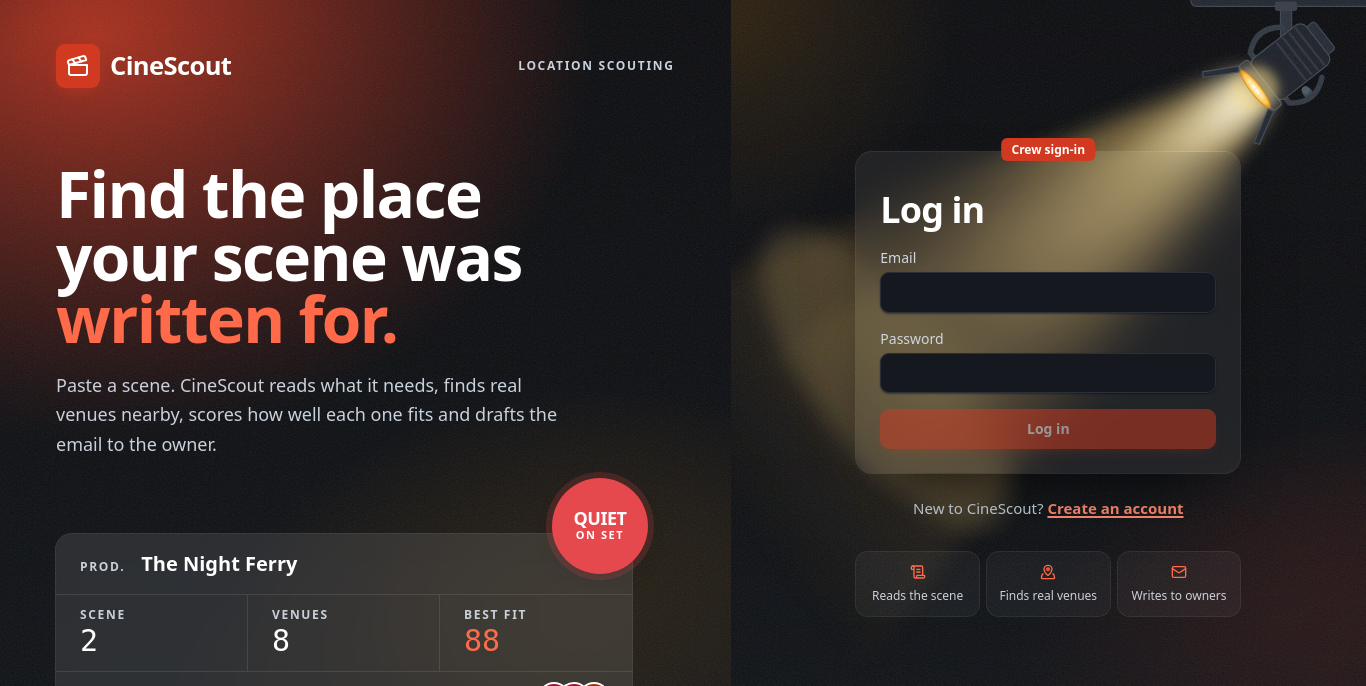
Test case: the call sheet › is shared with the crew by a link, which can be copied and stopped
The width and height of the screenshot is (1366, 686).
In the field labelled "Email": (1048, 293) top-left (880, 272), bottom-right (1216, 313), type "ada@example.com"
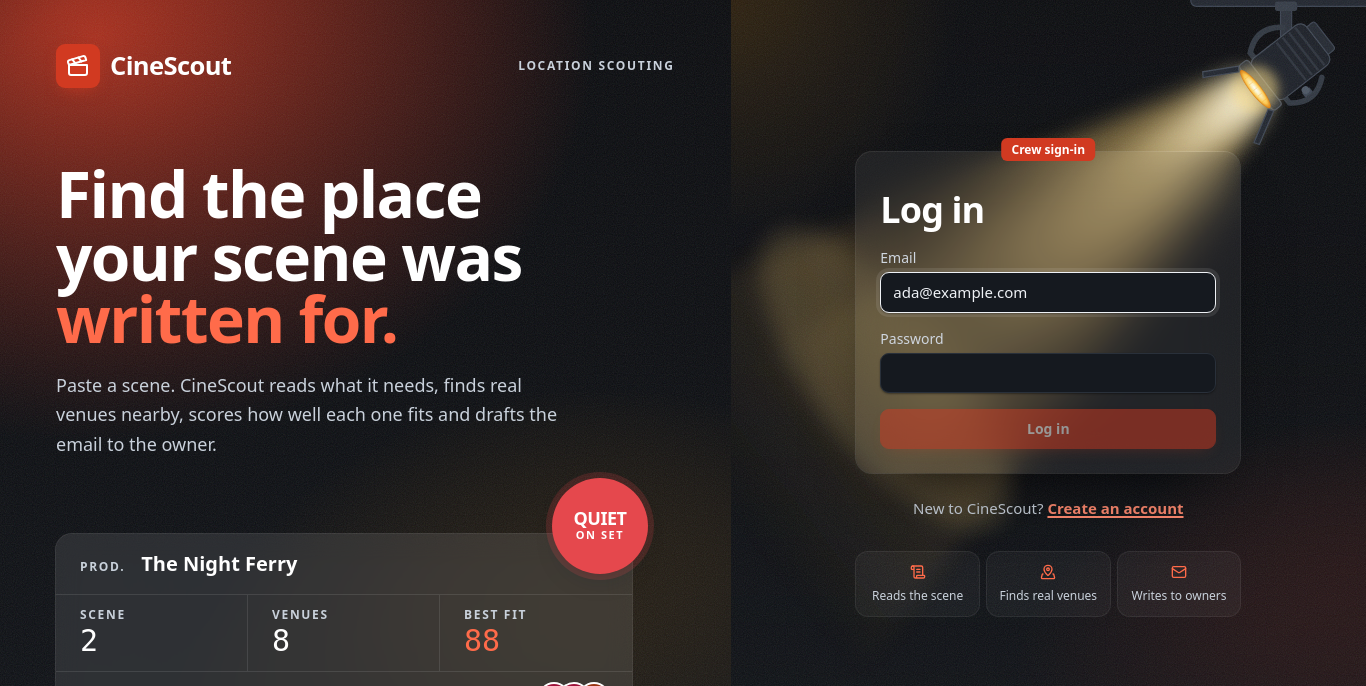
In the password field labelled "Password": (1048, 373) top-left (880, 353), bottom-right (1216, 393), type "a-long-password"
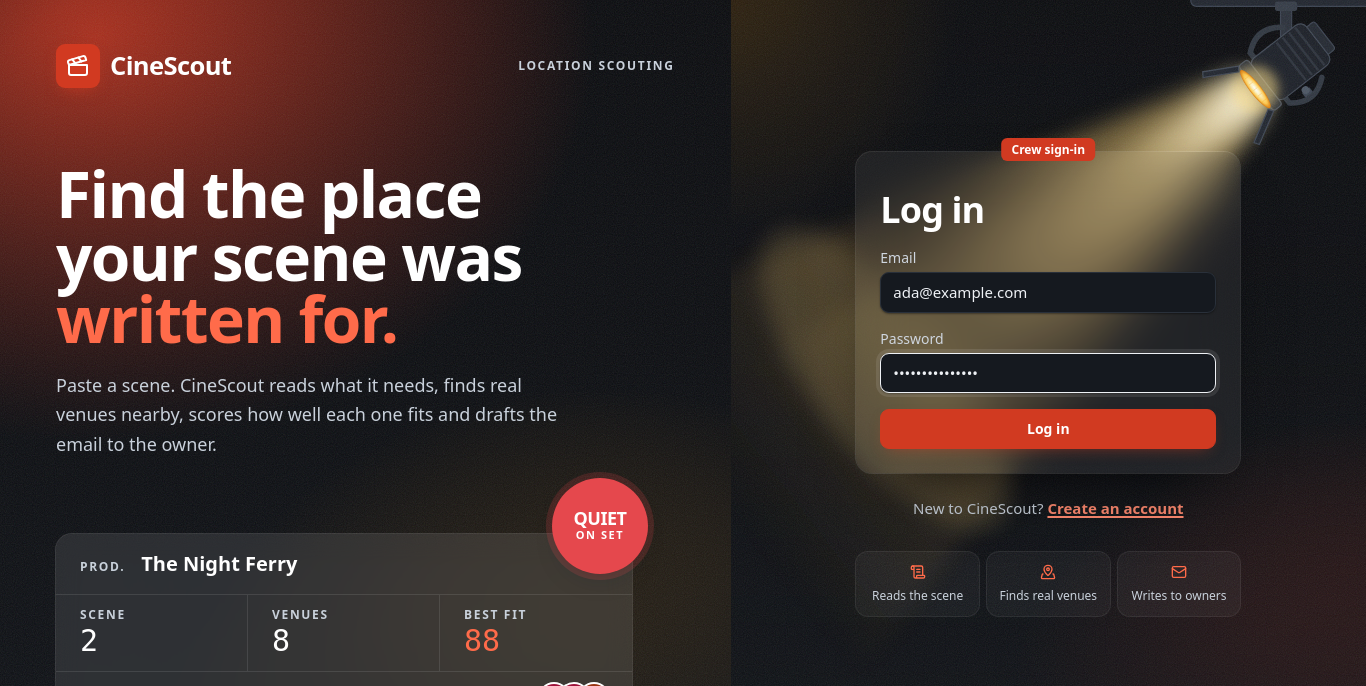
Click the button "Log in": (1048, 429) top-left (880, 409), bottom-right (1216, 449)
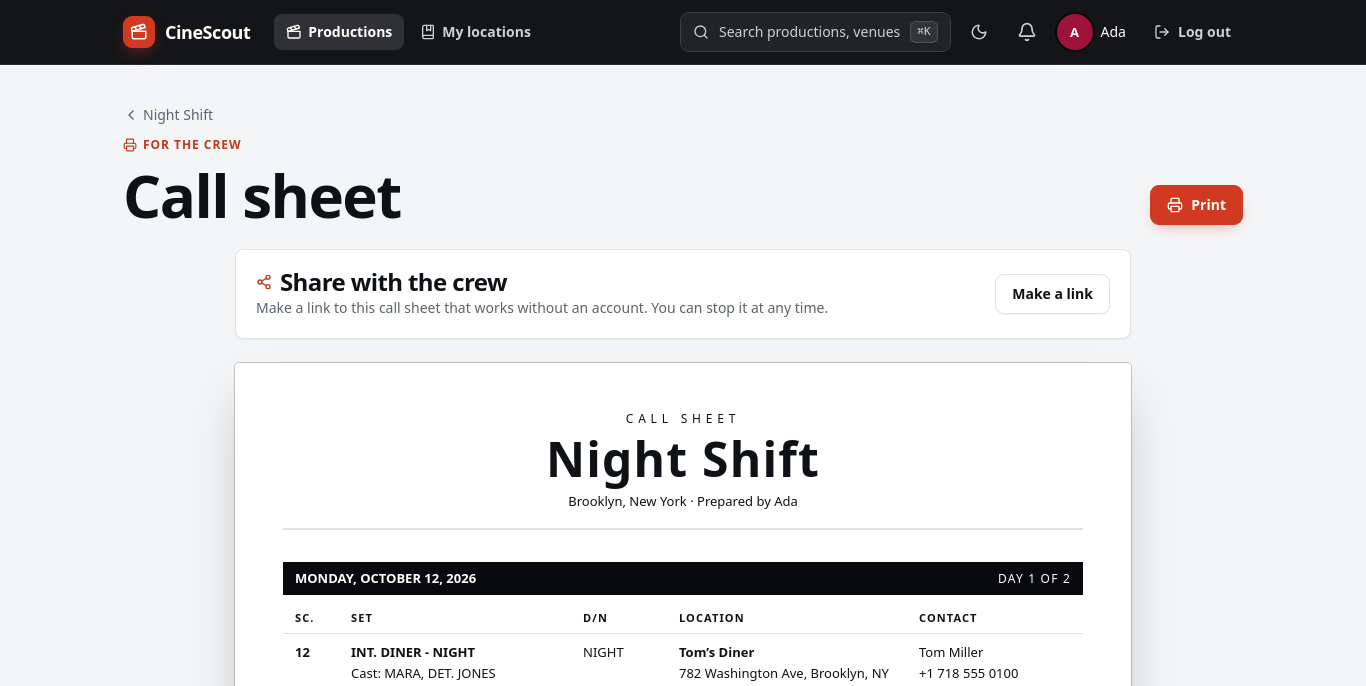
Click the button "Make a link": (1053, 294) top-left (995, 274), bottom-right (1110, 314)
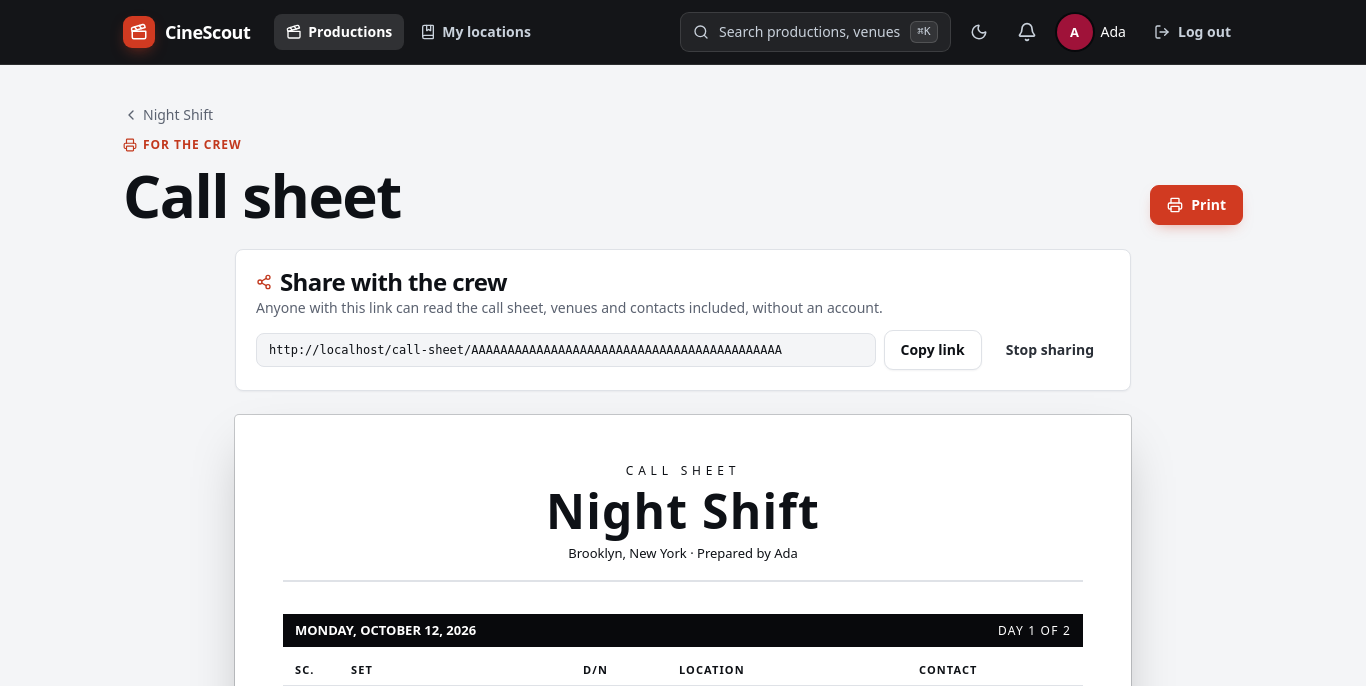
Click the button "Copy link": (933, 350) top-left (884, 330), bottom-right (982, 370)
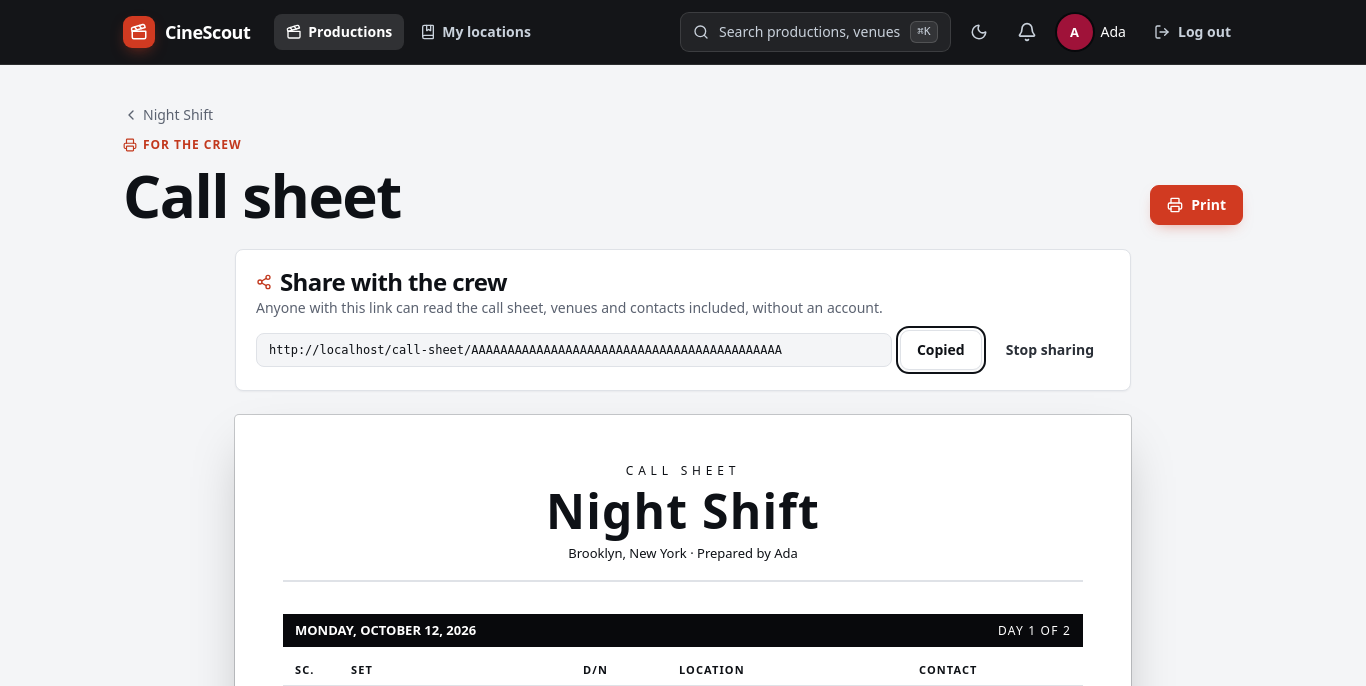
Now the button "Copied" is shown, box top-left (900, 330), bottom-right (982, 370)
Click the button "Stop sharing": (1050, 350) top-left (990, 330), bottom-right (1110, 370)
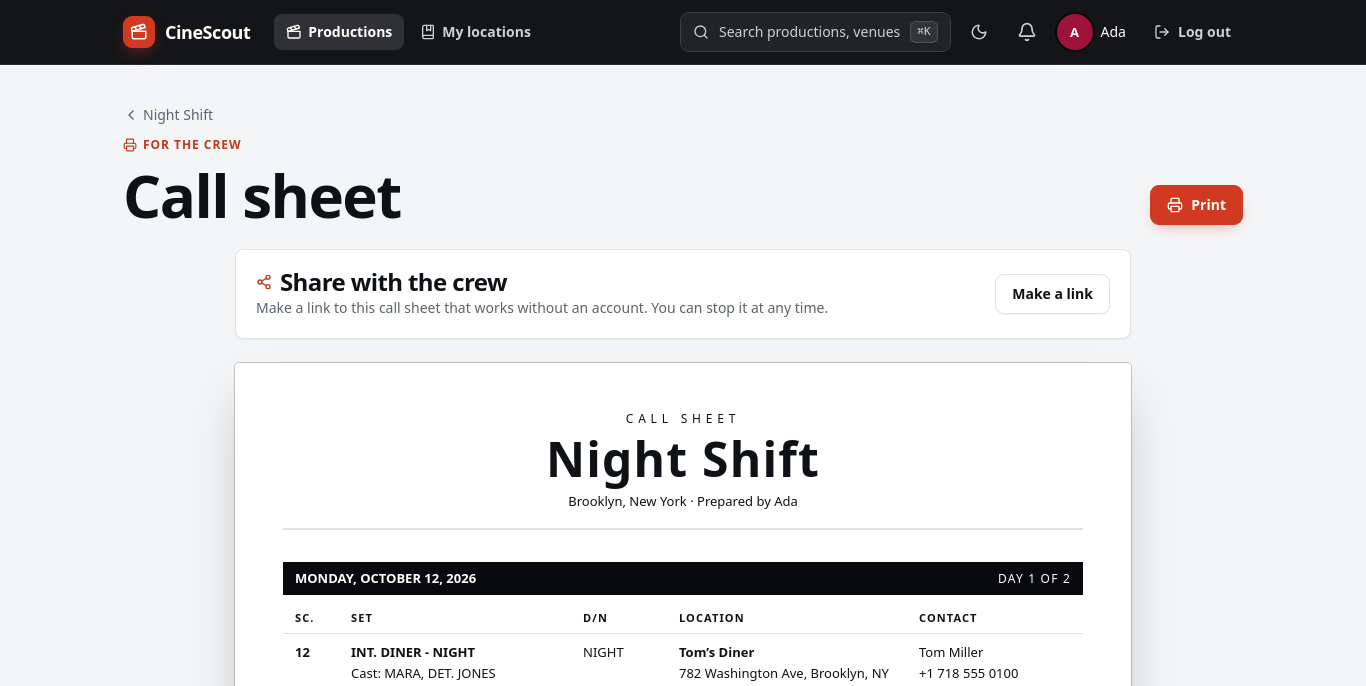
Now the button "Make a link" is shown, box top-left (995, 274), bottom-right (1110, 314)
